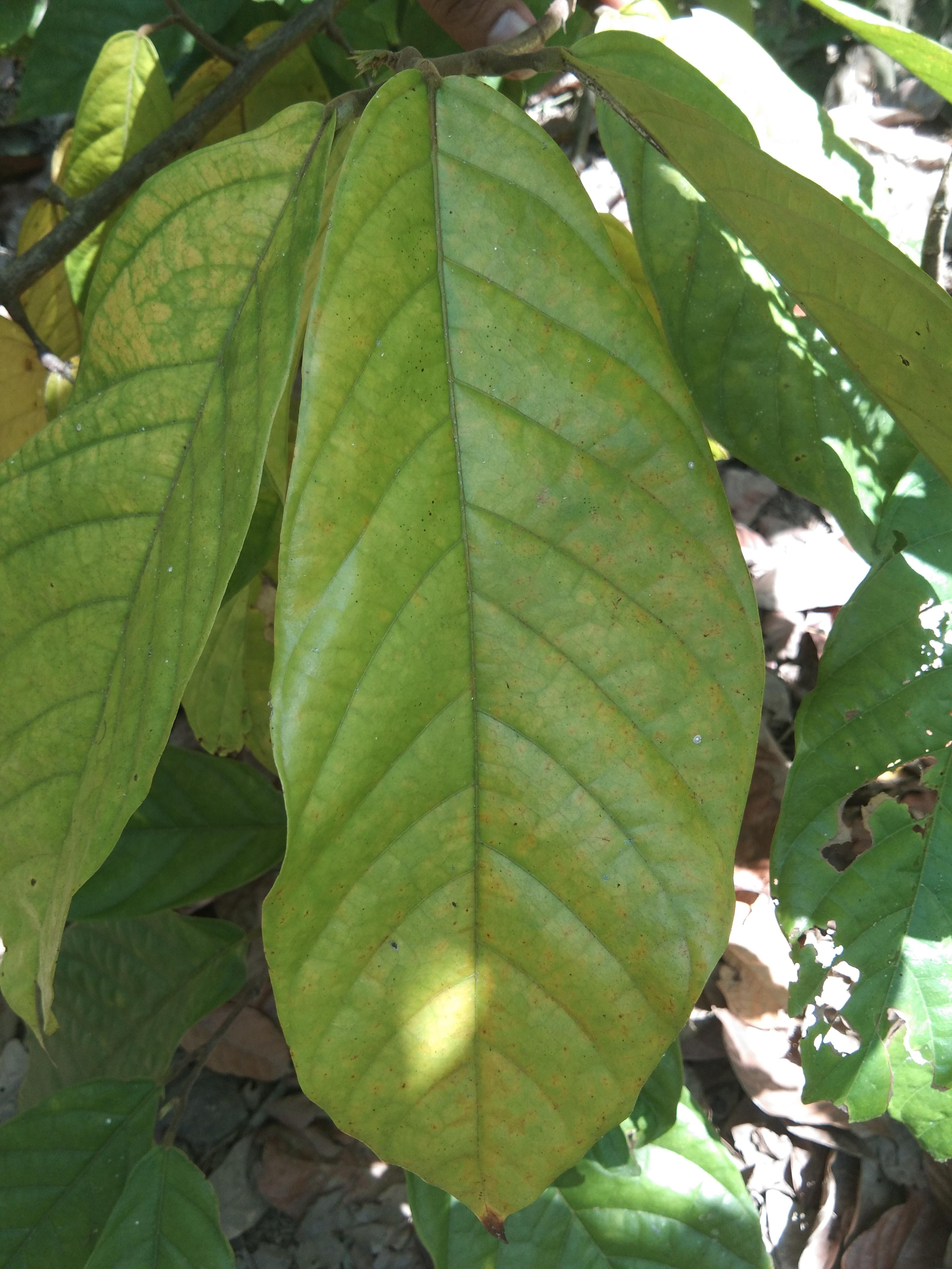deficiencia_potasio: (257, 67, 763, 1233)
